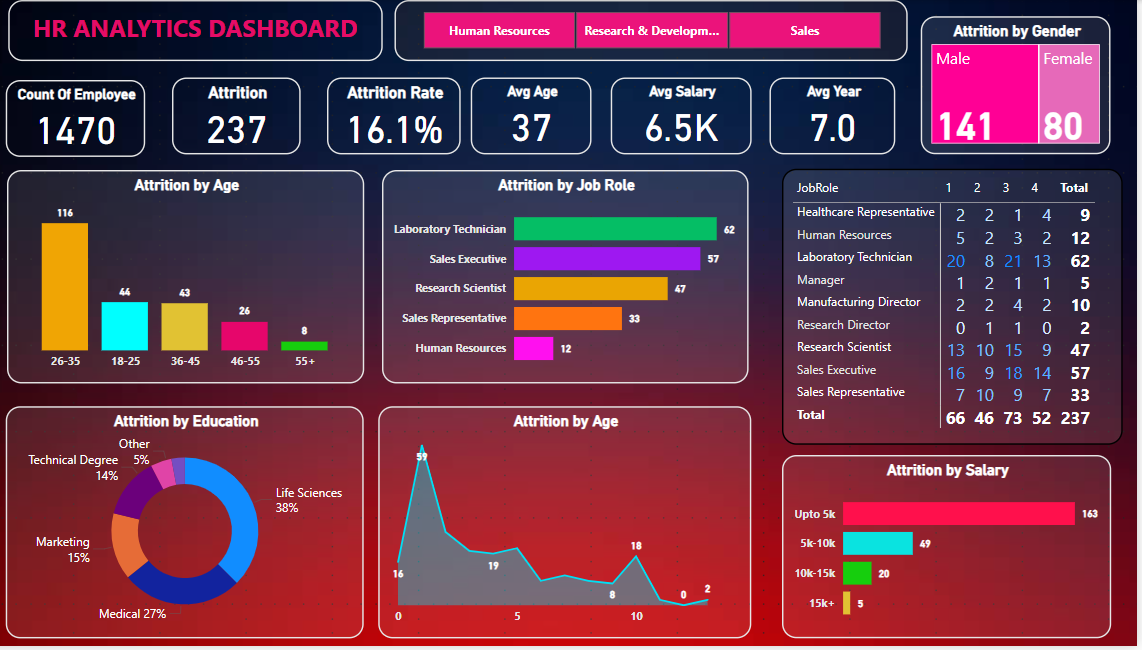

Layout of this report page (visuals, bound fields, positions):
{"tool":"powerbi","page":{"name":"Page 1","canvas":[1280,720],"ordinal":0},"visuals":[{"type":"card","title":"Count Of Employee","fields":{"Values":["CountNonNull(HR_Analytics.EmpID)"]},"box":[20.7,88.6,155.1,85.7],"z":0},{"type":"card","title":"Attrition","fields":{"Values":["Sum(HR_Analytics.AttritionCount)"]},"box":[205.3,85.7,143.3,85.7],"z":1000},{"type":"card","title":"Attrition Rate","fields":{"Values":["HR_Analytics.AttritionRate"]},"box":[378.1,85.7,149.2,85.7],"z":2000},{"type":"card","title":"Avg Age","fields":{"Values":["Avg(HR_Analytics.Age)"]},"box":[539.1,85.7,134.4,85.7],"z":3000},{"type":"card","title":"Avg Salary","fields":{"Values":["Avg(HR_Analytics.MonthlyIncome)"]},"box":[694.2,85.7,156.6,85.7],"z":4000},{"type":"card","title":"Avg Year","fields":{"Values":["Avg(HR_Analytics.YearsAtCompany)"]},"box":[871.4,85.7,140.3,85.7],"z":5000},{"type":"donutChart","title":"Attrition by Education","fields":{"Category":["HR_Analytics.EducationField"],"Y":["Sum(HR_Analytics.AttritionCount)"]},"box":[20.7,451.9,398.8,258.5],"z":6000},{"type":"columnChart","title":"Attrition by Age","fields":{"Category":["HR_Analytics.AgeGroup"],"Y":["Sum(HR_Analytics.AttritionCount)"]},"box":[22.2,189,397.3,237.8],"z":7000},{"type":"pivotTable","fields":{"Rows":["HR_Analytics.JobRole"],"Columns":["HR_Analytics.JobSatisfaction"],"Values":["Sum(HR_Analytics.AttritionCount)"]},"box":[884.7,187.6,379.6,307.2],"z":8000},{"type":"barChart","title":"Attrition by Salary","fields":{"Category":["HR_Analytics.SalarySlab"],"Y":["Sum(HR_Analytics.AttritionCount)"]},"box":[884.7,506.6,366.3,203.8],"z":8001},{"type":"barChart","title":"Attrition by Job Role","fields":{"Category":["HR_Analytics.JobRole"],"Y":["Sum(HR_Analytics.AttritionCount)"]},"box":[440.1,189,407.6,237.8],"z":8002},{"type":"areaChart","title":"Attrition by Age","fields":{"Category":["HR_Analytics.YearsAtCompany"],"Y":["Sum(HR_Analytics.AttritionCount)"]},"box":[435.7,451.9,415,258.5],"z":8003},{"type":"treemap","title":"Attrition by Gender","fields":{"Group":["HR_Analytics.Gender"],"Values":["Sum(HR_Analytics.AttritionCount)"]},"box":[1039.8,17.7,211.2,153.6],"z":8004},{"type":"slicer","fields":{"Values":["HR_Analytics.Department"]},"box":[453.4,0,571.6,67.9],"z":8005},{"type":"textbox","box":[23.6,0,416.5,67.9],"z":8006}]}

Visuals, with their boxes in screenshot pixels (x1, y1, x2, y2), scaled from the page's 1280x720 canvas onto the 1142x650 screenshot:
"Count Of Employee" card: bbox=(18, 80, 157, 157)
"Attrition" card: bbox=(183, 77, 311, 155)
"Attrition Rate" card: bbox=(337, 77, 470, 155)
"Avg Age" card: bbox=(481, 77, 601, 155)
"Avg Salary" card: bbox=(619, 77, 759, 155)
"Avg Year" card: bbox=(777, 77, 903, 155)
"Attrition by Education" donutChart: bbox=(18, 408, 374, 641)
"Attrition by Age" columnChart: bbox=(20, 171, 374, 385)
pivotTable - HR_Analytics.JobRole x HR_Analytics.JobSatisfaction: bbox=(789, 169, 1128, 447)
"Attrition by Salary" barChart: bbox=(789, 457, 1116, 641)
"Attrition by Job Role" barChart: bbox=(393, 171, 756, 385)
"Attrition by Age" areaChart: bbox=(389, 408, 759, 641)
"Attrition by Gender" treemap: bbox=(928, 16, 1116, 155)
slicer - HR_Analytics.Department: bbox=(405, 0, 914, 61)
textbox: bbox=(21, 0, 393, 61)
